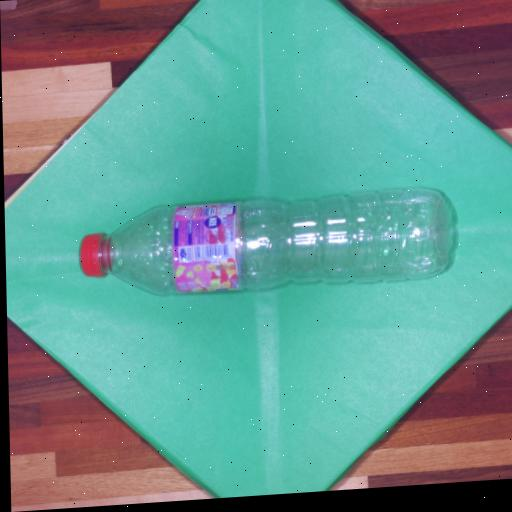bottle: (81, 189, 452, 294)
